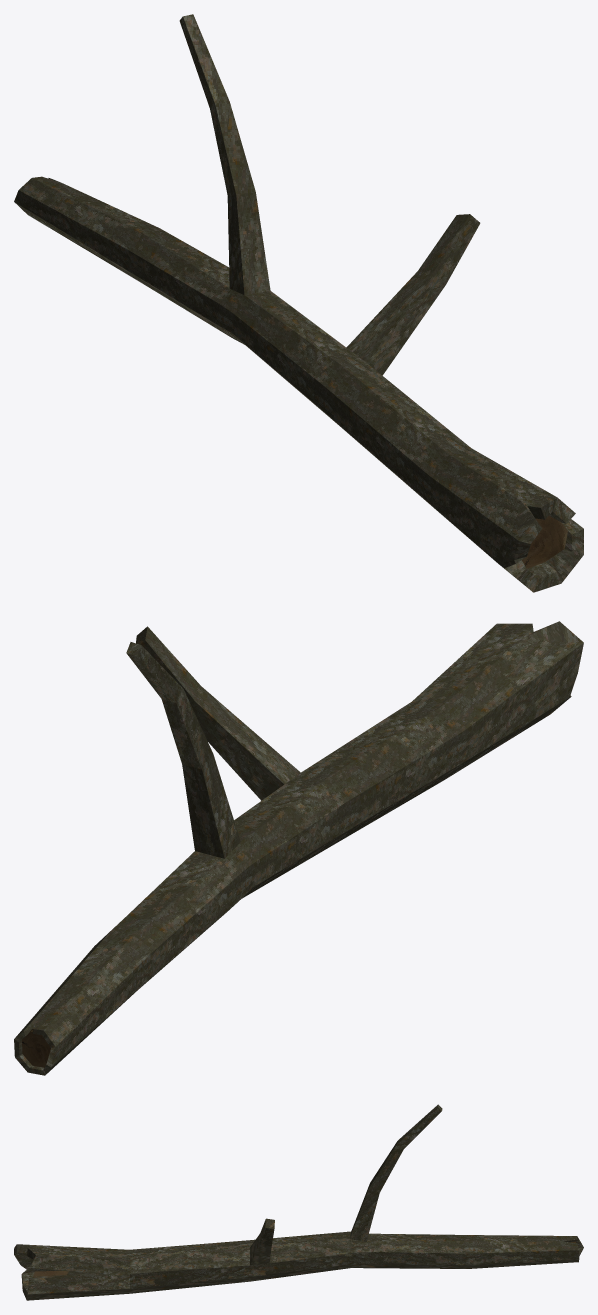
Rendered from fallen_tree2.glb.
The picture shows the model from 3 angles, top to bottom: view 1: azimuth 30°, elevation 25°; view 2: azimuth 150°, elevation 25°; view 3: azimuth 270°, elevation 25°; orthographic projection. The views are drawn at different scales.
Visible parts, largest first — view 1: Cylinder; view 2: Cylinder; view 3: Cylinder.
Part boxes in pixels (x1,y1,x2,y2): Cylinder: [14, 14, 583, 592]; Cylinder: [14, 621, 583, 1075]; Cylinder: [14, 1104, 583, 1300].
Size of the model in its own units: 0.5584 by 0.8676 by 2.38.
2 materials, 2 textured.
